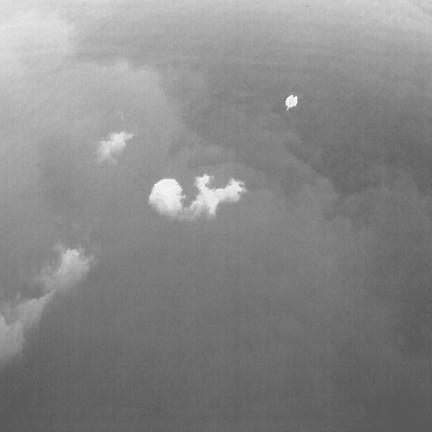flukeprints: (184, 175, 246, 216), (149, 179, 184, 216), (57, 250, 93, 285), (99, 132, 133, 161), (286, 94, 297, 110)
